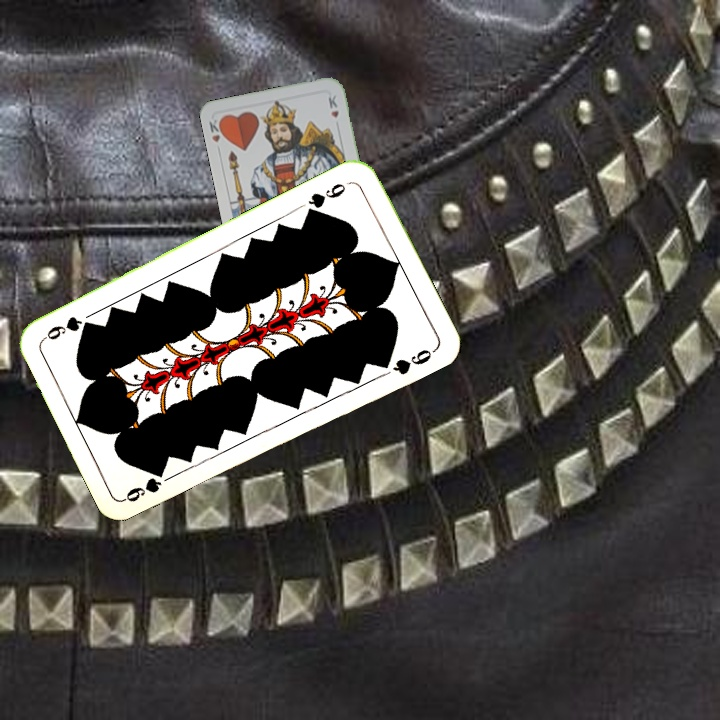G9: (302, 177, 353, 218), (121, 474, 164, 505)
HK: (205, 114, 227, 155)
